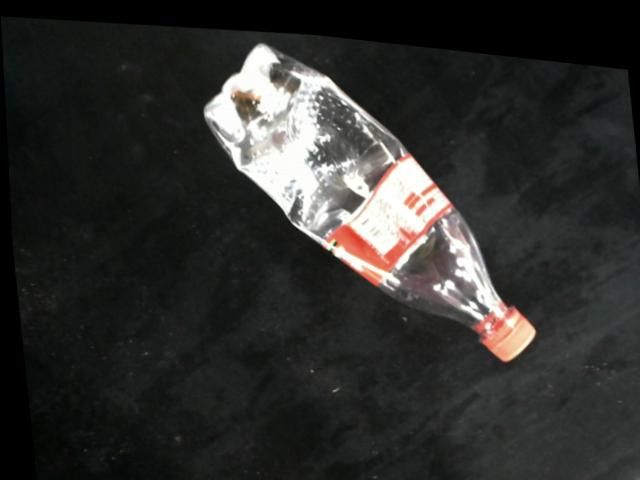bottle: (201, 37, 537, 353)
